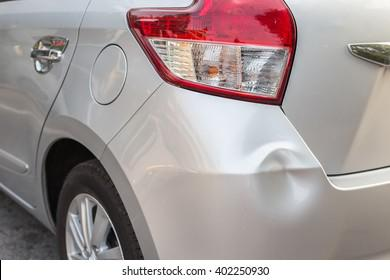rear-bumper-dent: (101, 141, 389, 261)
